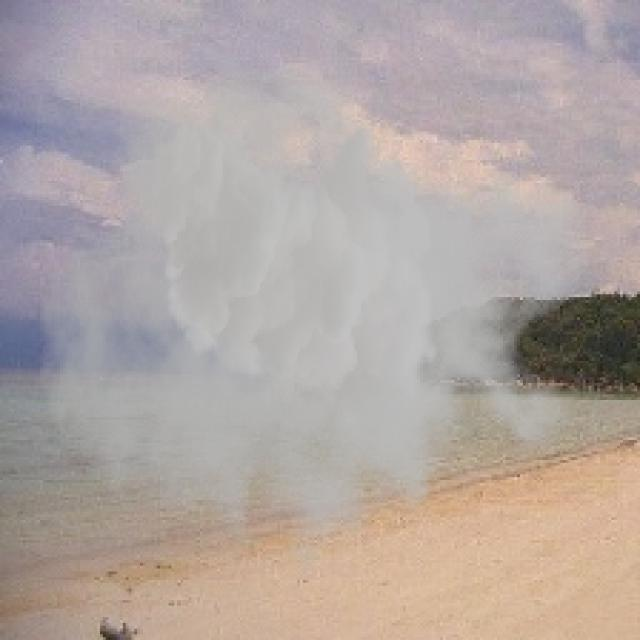smoke: (37, 46, 594, 603)
